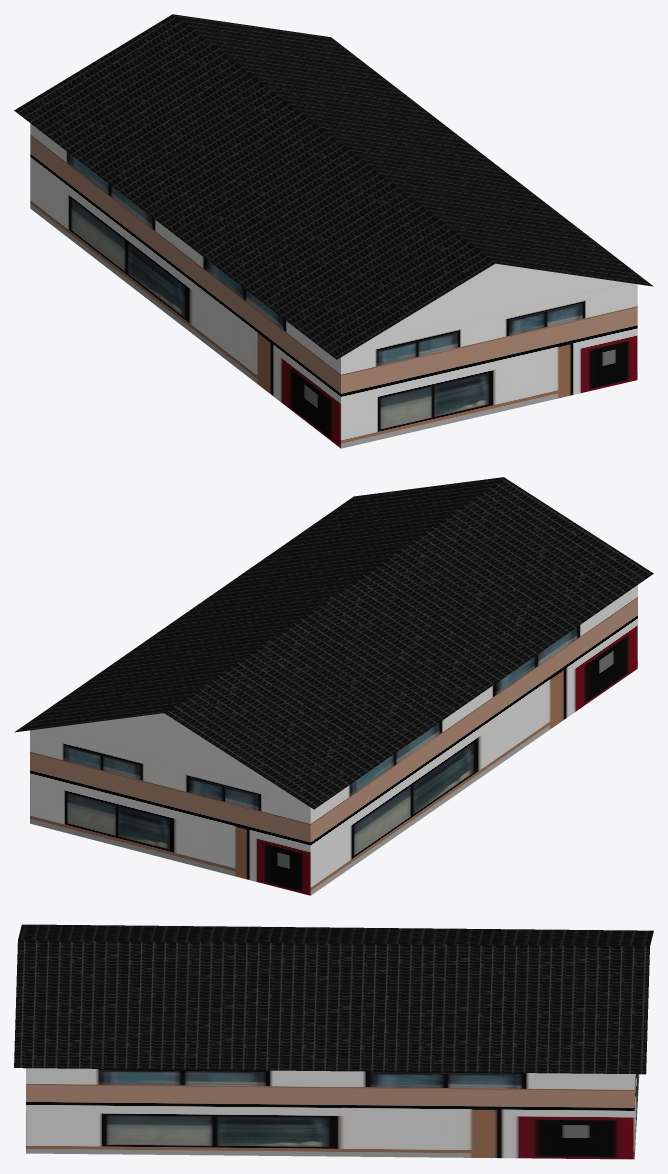
3 views of the same model, one above another, from view 1: azimuth 30°, elevation 25°; view 2: azimuth 150°, elevation 25°; view 3: azimuth 270°, elevation 25° (orthographic). The views are drawn at different scales.
Parts seen in each view (by area): view 1: CityEngineMaterial_14_m, CityEngineMaterial_5_m, CityEngineMaterial_3_m; view 2: CityEngineMaterial_14_m, CityEngineMaterial_5_m, CityEngineMaterial_3_m; view 3: CityEngineMaterial_14_m, CityEngineMaterial_5_m.
Boxes of the visible parts, box(x1,y1,x2,y2) form: CityEngineMaterial_14_m: box(14, 14, 653, 359); CityEngineMaterial_5_m: box(30, 123, 637, 448); CityEngineMaterial_3_m: box(363, 263, 627, 343); CityEngineMaterial_14_m: box(14, 477, 653, 809); CityEngineMaterial_5_m: box(30, 585, 637, 895); CityEngineMaterial_3_m: box(40, 713, 287, 792); CityEngineMaterial_14_m: box(14, 924, 653, 1074); CityEngineMaterial_5_m: box(26, 1068, 639, 1159).
Size of the model in its own units: 30.27 by 13.77 by 54.67.
